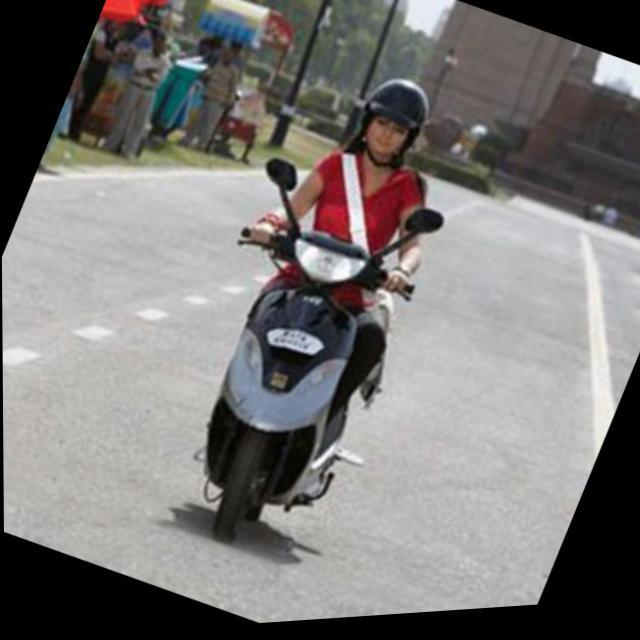Helmet: (344, 70, 432, 167)
